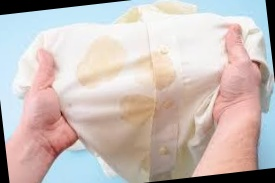oil: (77, 32, 136, 90), (118, 84, 170, 143), (135, 51, 180, 96)
